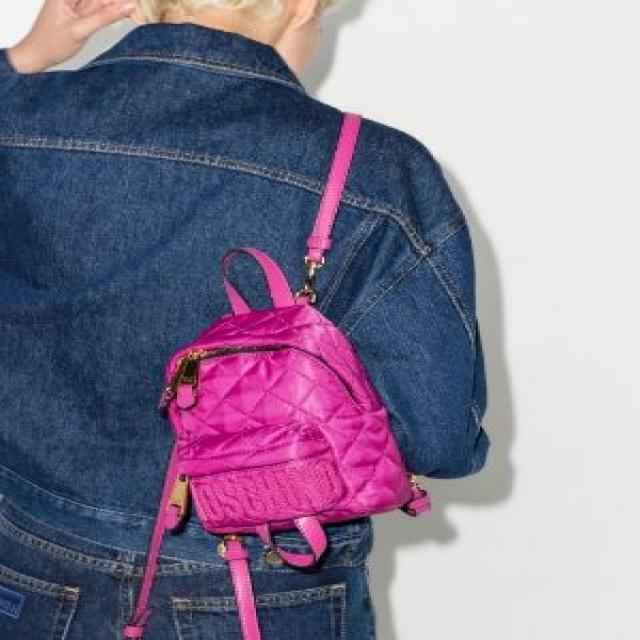Backpacks: (166, 307, 426, 538)
